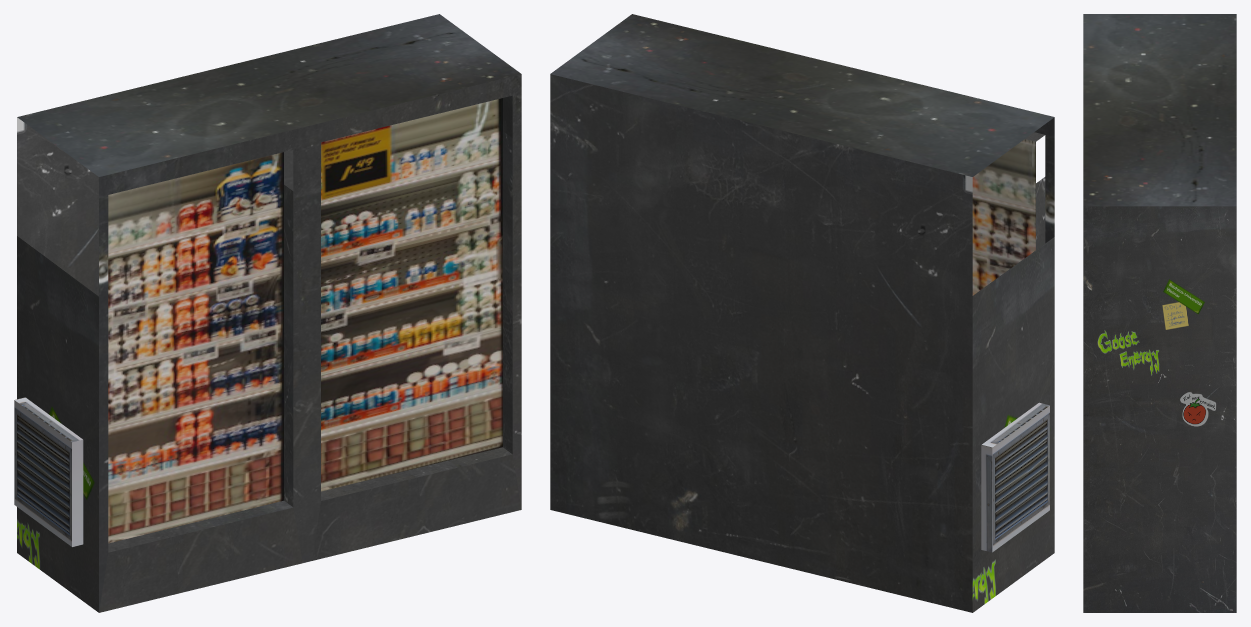
Rendered from FreezerTall.fbx.
The picture shows the model from 3 angles, left to right: view 1: azimuth 30°, elevation 25°; view 2: azimuth 150°, elevation 25°; view 3: azimuth 270°, elevation 25°; orthographic projection. The views are drawn at different scales.
Visible parts, largest first — view 1: Cube.002; view 2: Cube.002; view 3: Cube.002.
Boxes of the visible parts, <box> form: Cube.002: <box>14,14,521,612</box>; Cube.002: <box>550,14,1054,612</box>; Cube.002: <box>1083,14,1236,612</box>.
Bounding box in the file's own units: 2.66 × 0.872 × 2.56.
